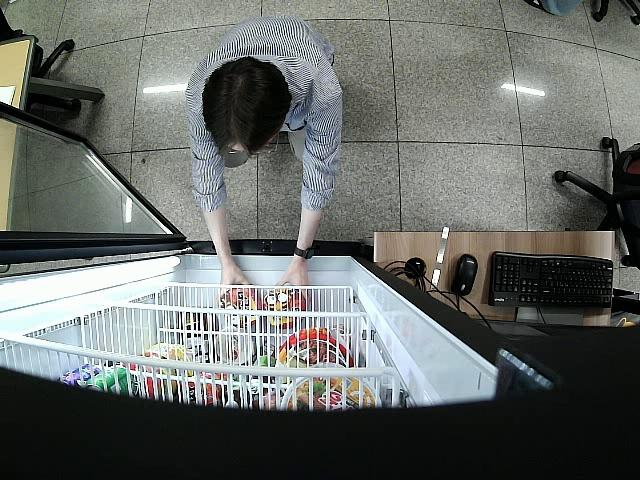00_hand: (272, 271, 310, 305), (220, 266, 254, 297)
05_nuguri_L: (223, 279, 261, 327), (265, 288, 306, 330)
